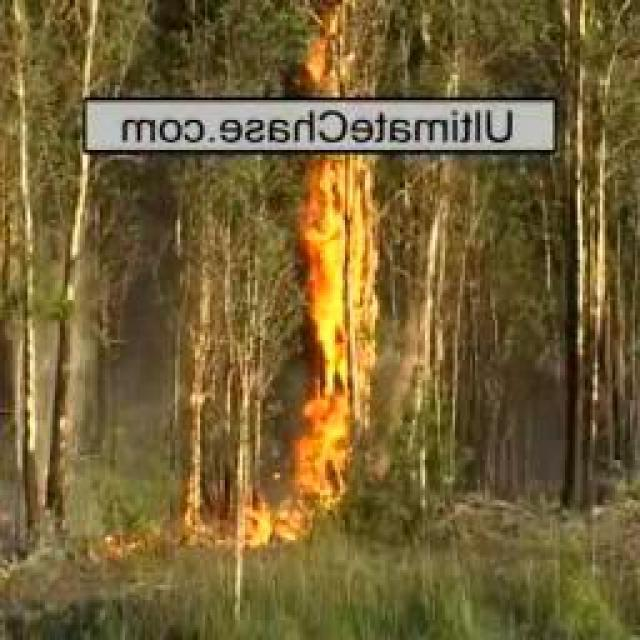Fire: (308, 151, 367, 447), (240, 455, 354, 554), (299, 8, 351, 101)
